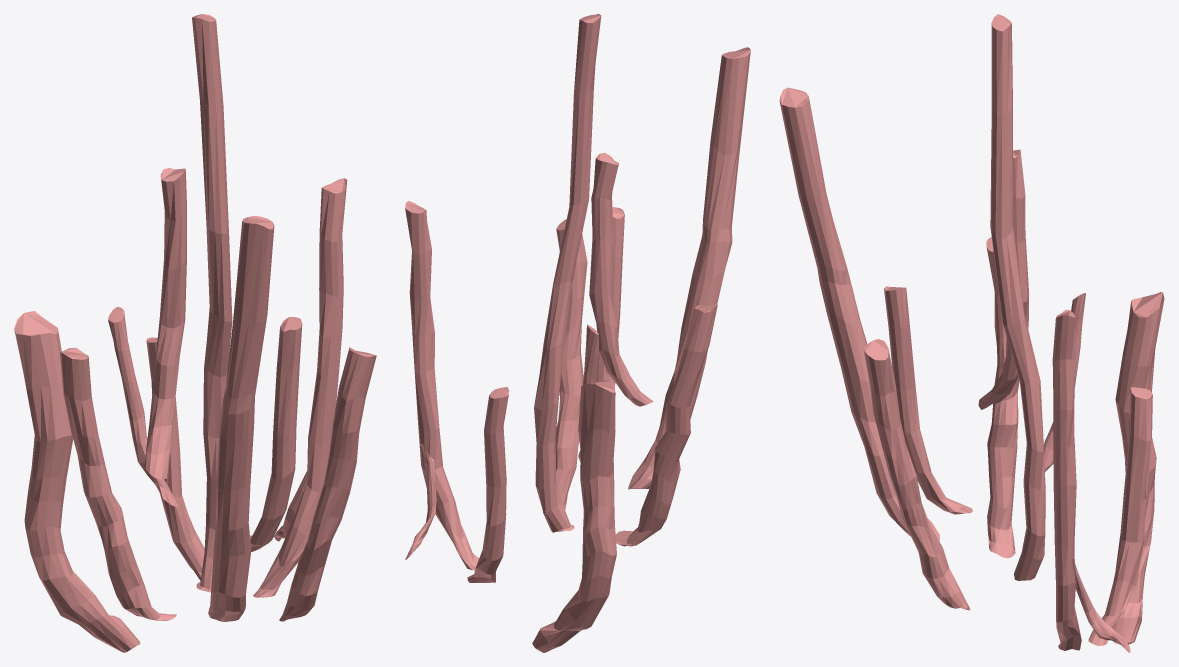
3 renders of one model, left to right at view 1: azimuth 30°, elevation 25°; view 2: azimuth 150°, elevation 25°; view 3: azimuth 270°, elevation 25°, orthographic. The views are drawn at different scales.
Parts seen in each view (by area): view 1: Cylinder007, 对象002, 对象007, 对象005, 对象001, 对象009, 对象004, 对象008, 对象006, 对象003; view 2: 对象007, Cylinder007, 对象002, 对象005, 对象001, 对象004, 对象009, 对象006, 对象008, 对象003; view 3: 对象007, Cylinder007, 对象005, 对象009, 对象002, 对象006, 对象001, 对象008, 对象004, 对象003.
Boxes of the visible parts, box(x1,y1,x2,y2) form: Cylinder007: box(208, 216, 274, 621); 对象002: box(14, 311, 140, 652); 对象007: box(192, 14, 232, 592); 对象005: box(253, 178, 347, 597); 对象001: box(60, 347, 176, 620); 对象009: box(279, 347, 376, 621); 对象004: box(144, 168, 186, 479); 对象008: box(250, 317, 302, 551); 对象006: box(146, 337, 209, 592); 对象003: box(108, 306, 177, 506); 对象007: box(534, 14, 601, 532); Cylinder007: box(628, 47, 750, 489); 对象002: box(532, 380, 616, 652); 对象005: box(405, 200, 478, 570); 对象001: box(615, 304, 717, 546); 对象004: box(589, 152, 653, 406); 对象009: box(555, 219, 587, 509); 对象006: box(467, 387, 509, 582); 对象008: box(596, 207, 624, 385); 对象003: box(578, 324, 598, 461); 对象007: box(990, 14, 1045, 580); Cylinder007: box(779, 87, 939, 540); 对象005: box(1052, 309, 1130, 652); 对象009: box(863, 339, 970, 610); 对象002: box(1112, 292, 1164, 644); 对象006: box(1088, 387, 1152, 645); 对象001: box(986, 237, 1019, 558); 对象008: box(884, 286, 972, 514); 对象004: box(978, 149, 1029, 409); 对象003: box(1043, 293, 1085, 471).
Size of the model in its own units: 1110 by 2257 by 1244.
